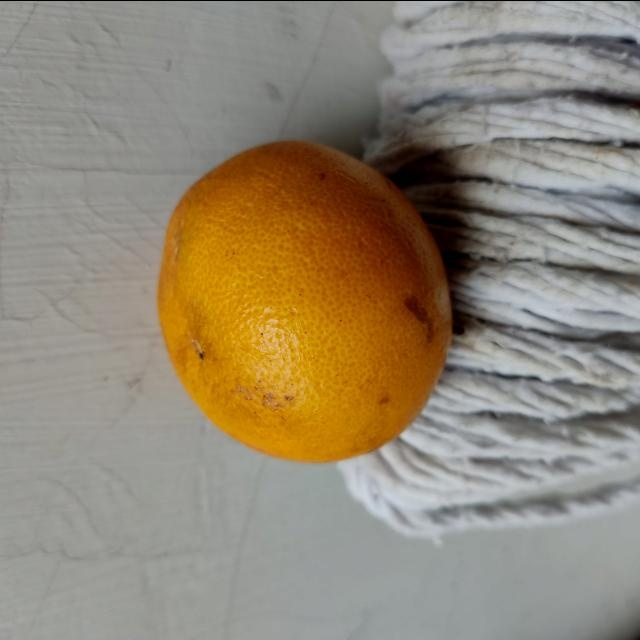agrume: (153, 126, 459, 466)
